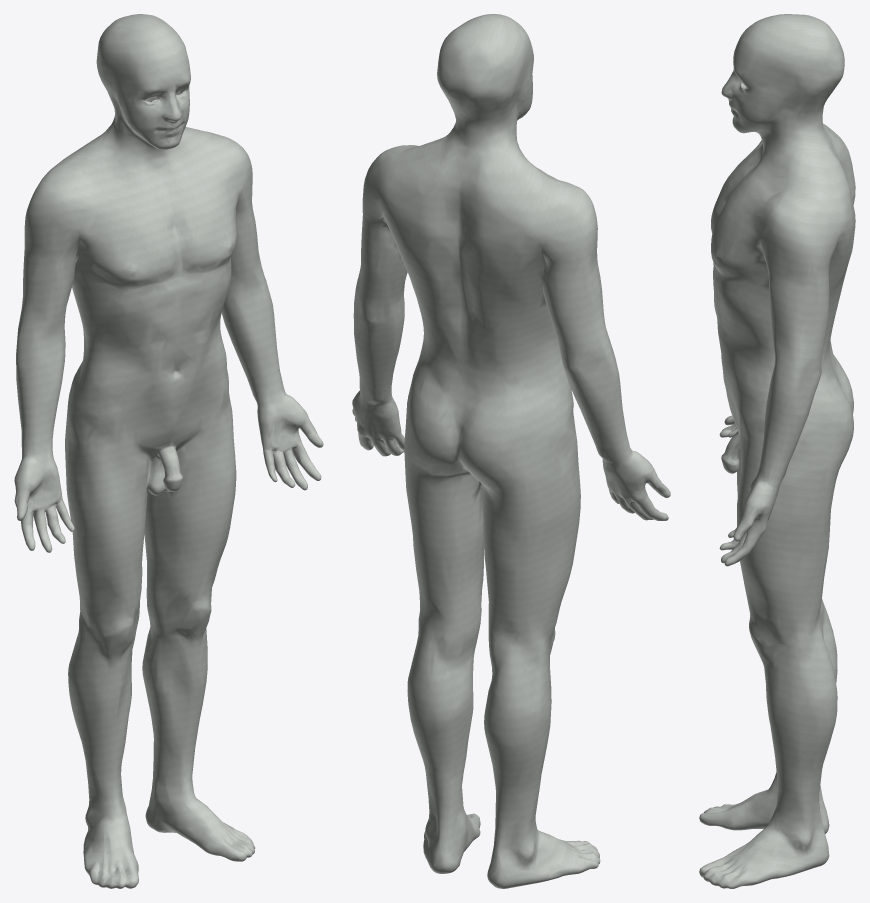
Rendered from body-reference.glb.
The picture shows the model from 3 angles, left to right: view 1: azimuth 30°, elevation 25°; view 2: azimuth 150°, elevation 25°; view 3: azimuth 270°, elevation 25°; orthographic projection. The views are drawn at different scales.
Parts seen in each view (by area): view 1: BodyParts3D Skin FJ2810; view 2: BodyParts3D Skin FJ2810; view 3: BodyParts3D Skin FJ2810.
Boxes of the visible parts, x1=… form: BodyParts3D Skin FJ2810: x1=14, y1=14, x2=323, y2=888; BodyParts3D Skin FJ2810: x1=352, y1=14, x2=670, y2=888; BodyParts3D Skin FJ2810: x1=699, y1=14, x2=855, y2=888.
Bounding box in the file's own units: 0.6592 × 1.7 × 0.2887.
Materials: 1 (1 with a texture image).
